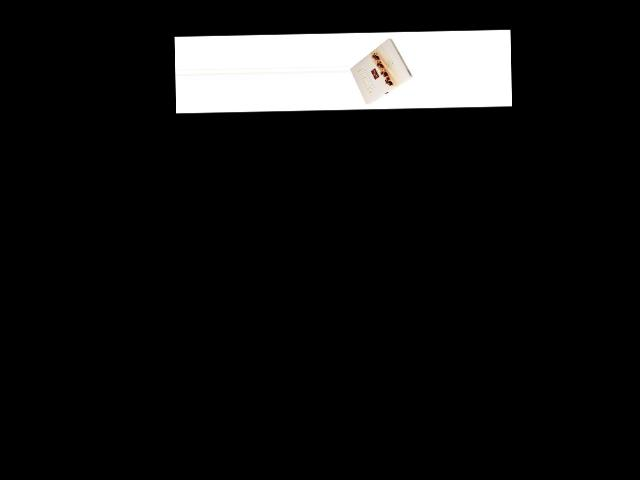chocolate: (350, 32, 414, 104)
